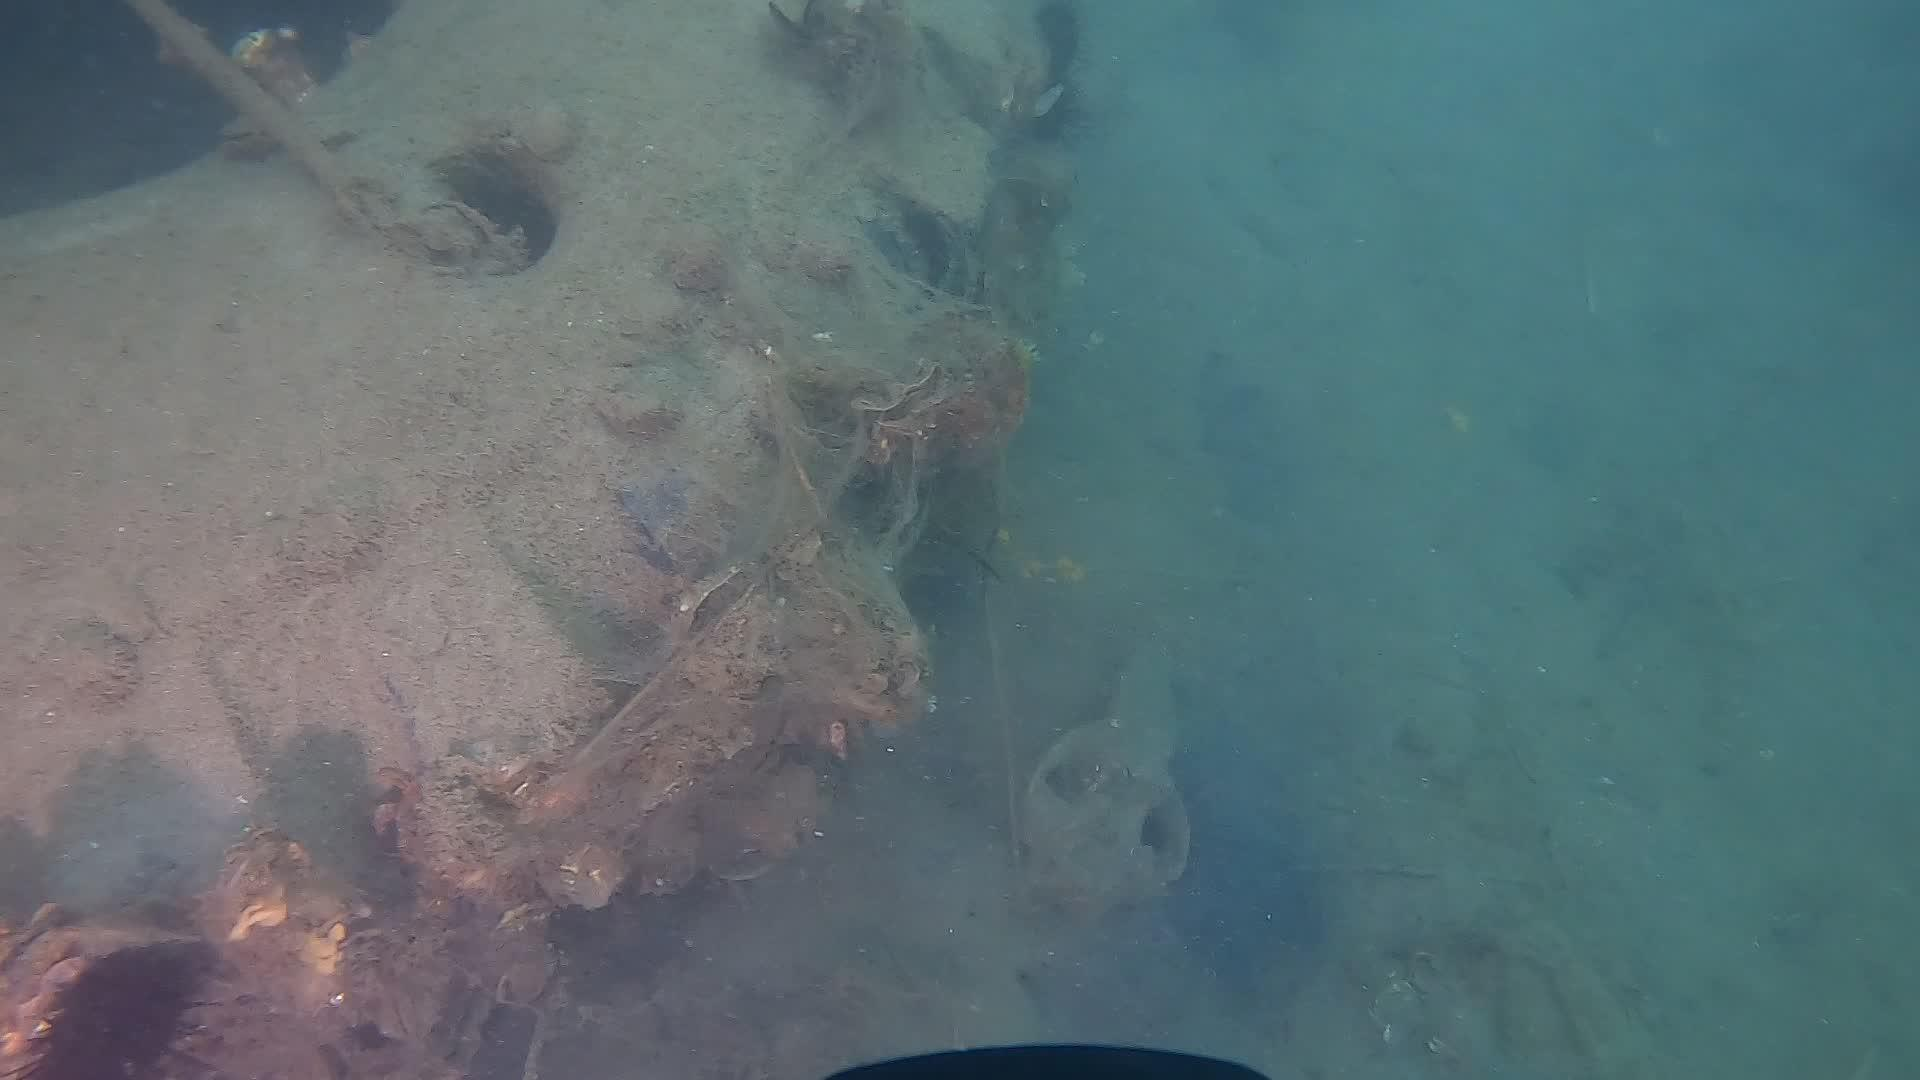tire: (0, 0, 1038, 949)
